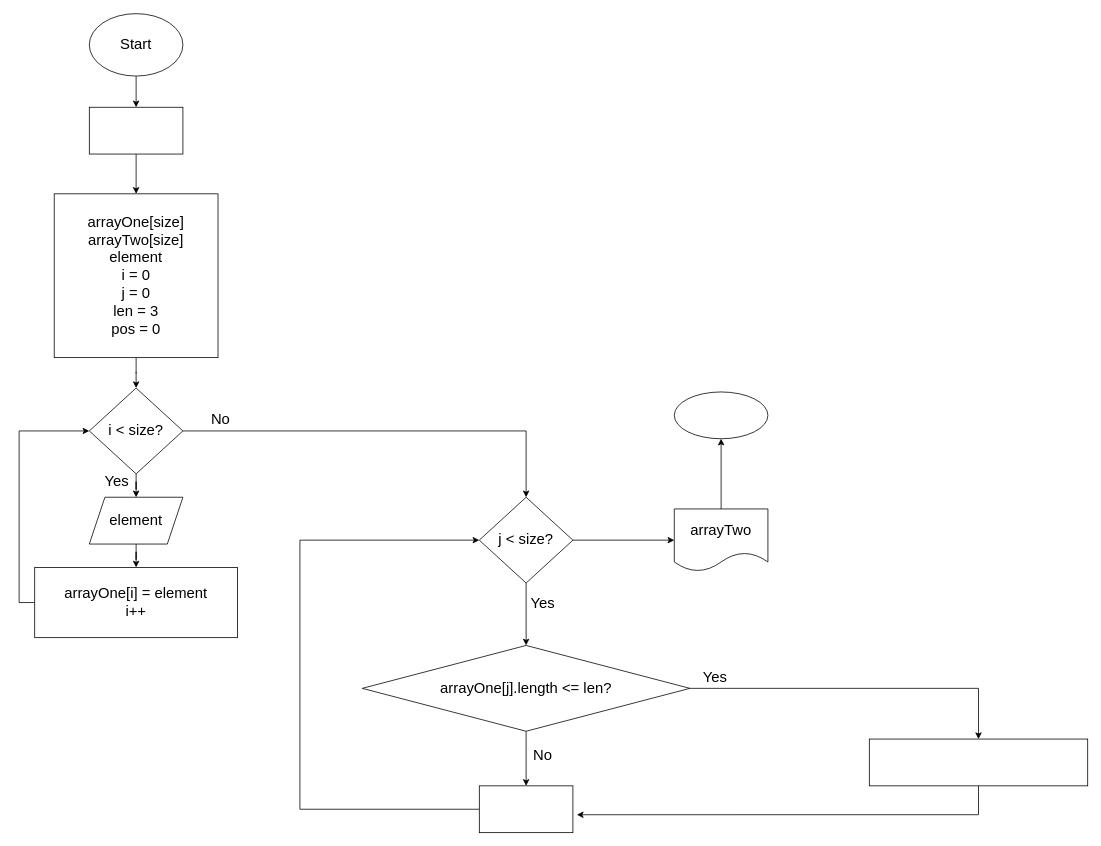
This 1101x846 diagram has some shape labels left out. The shapes that lost their labels are listed below. From the top down, each one's centre as x and y in pixels, then its label:
At (136,130): "Size".
At (721,415): "end".
At (978,762): "arrayTwo[pos] = arrayOne[j] pos++".
At (526,809): "j++".
